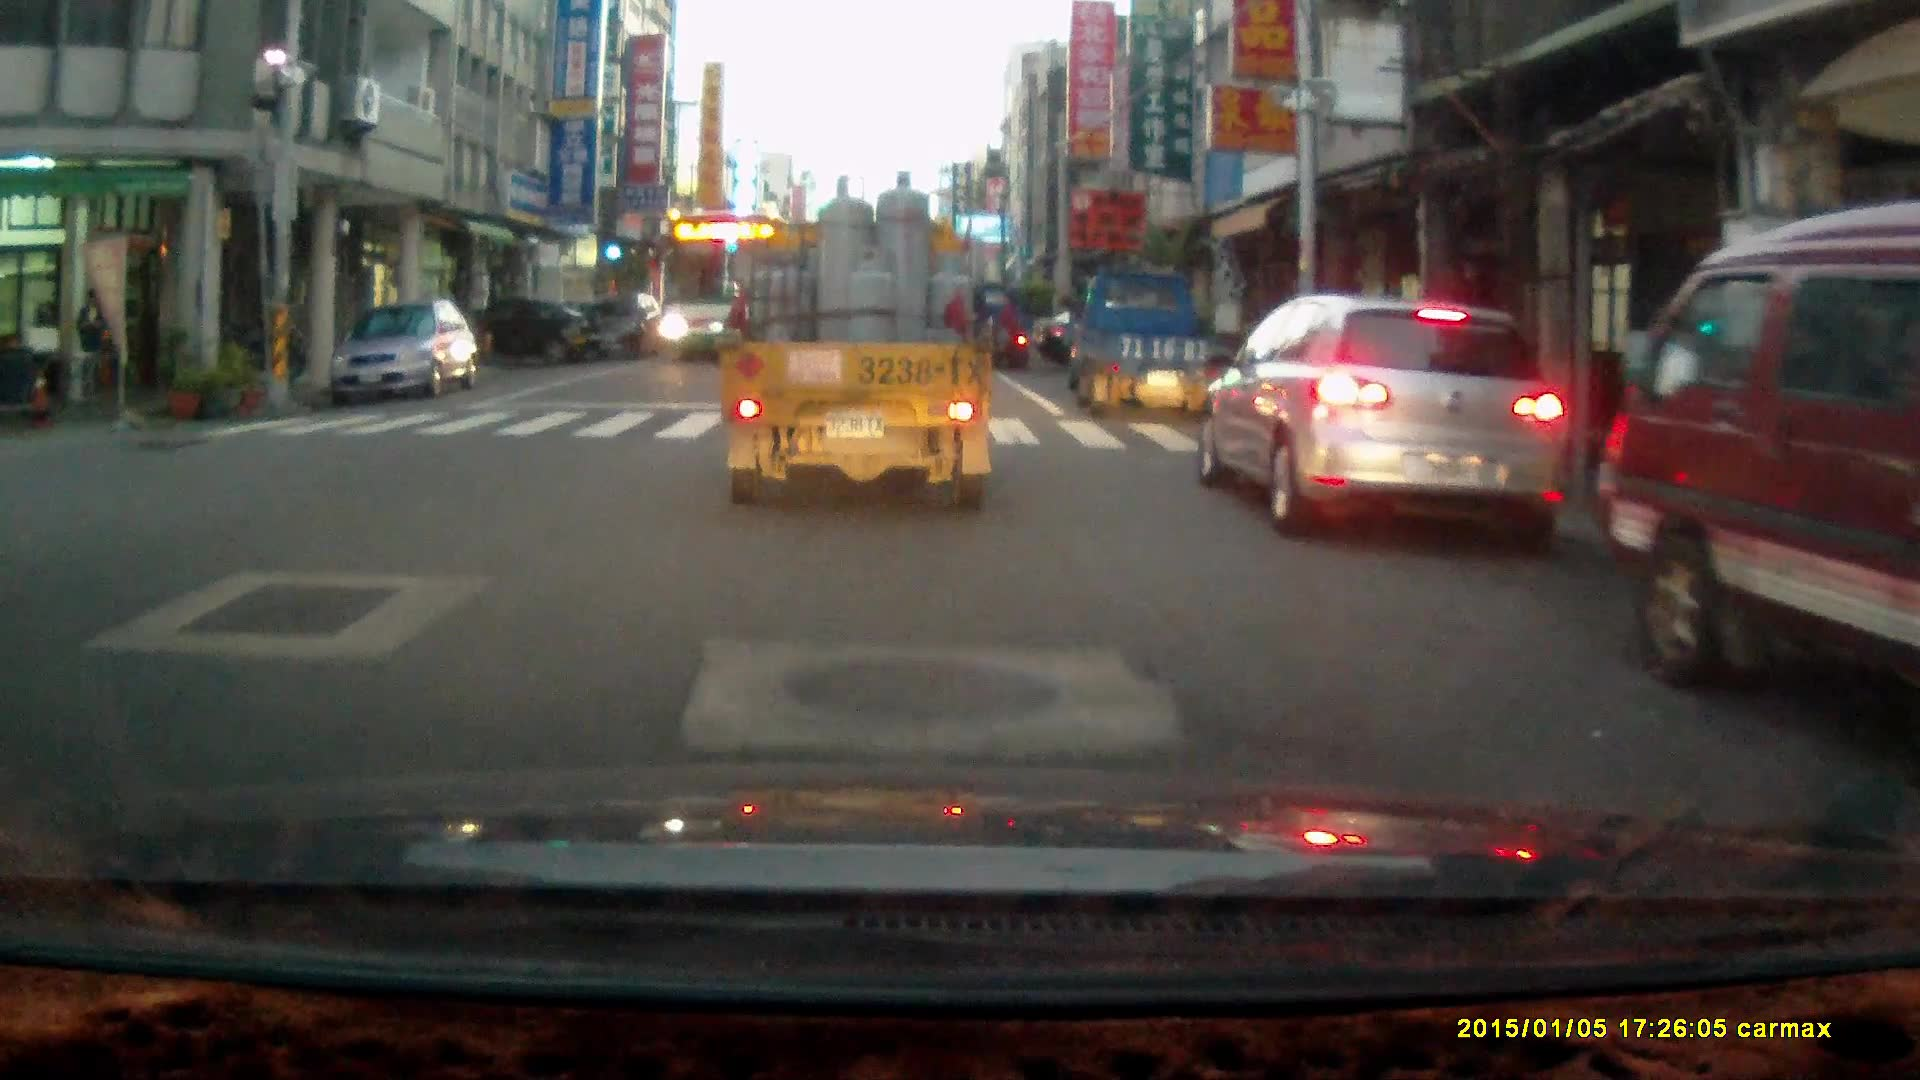pedestrian: (72, 284, 107, 415), (995, 289, 1020, 365)
vehicle: (1592, 201, 1920, 733), (1196, 293, 1570, 559), (725, 171, 994, 517), (1068, 270, 1224, 421), (655, 209, 787, 369), (327, 302, 479, 408), (414, 297, 603, 367), (581, 295, 673, 365)
